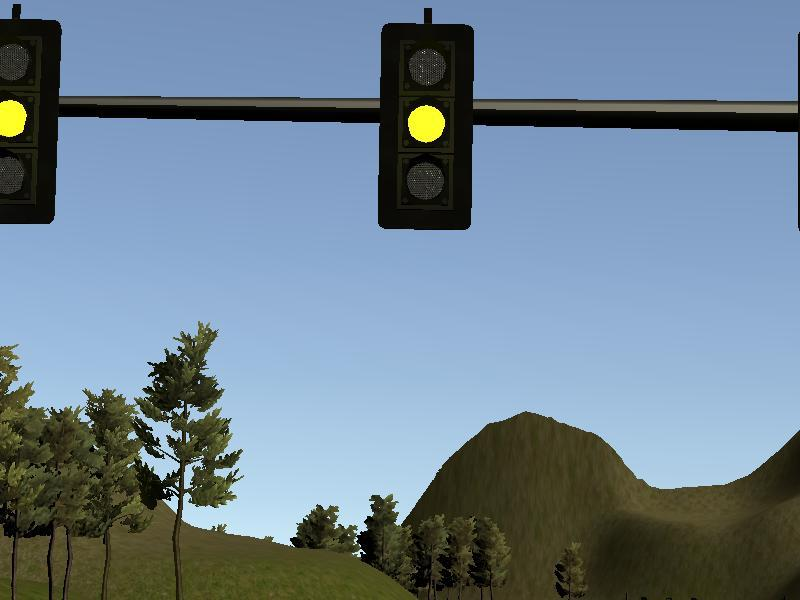Yellow: (380, 22, 472, 227), (1, 23, 60, 220)
